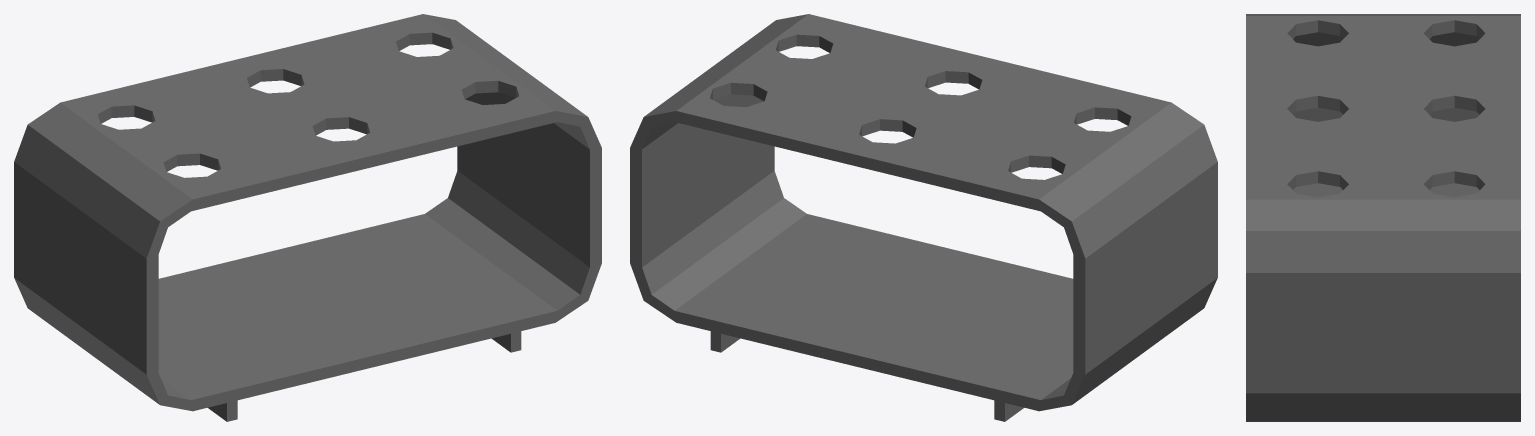
Rendered from Rak Alcohol.fbx.
The picture shows the model from 3 angles, left to right: view 1: azimuth 30°, elevation 25°; view 2: azimuth 150°, elevation 25°; view 3: azimuth 270°, elevation 25°; orthographic projection. The views are drawn at different scales.
Parts seen in each view (by area): view 1: Cube.002; view 2: Cube.002; view 3: Cube.002.
Part boxes in pixels (box(x1,y1,x2,y2)): Cube.002: box(14, 14, 601, 421); Cube.002: box(630, 14, 1217, 421); Cube.002: box(1246, 14, 1520, 421).
Size of the model in its own units: 89.51 by 43.37 by 45.11.
1 material, 1 textured.
